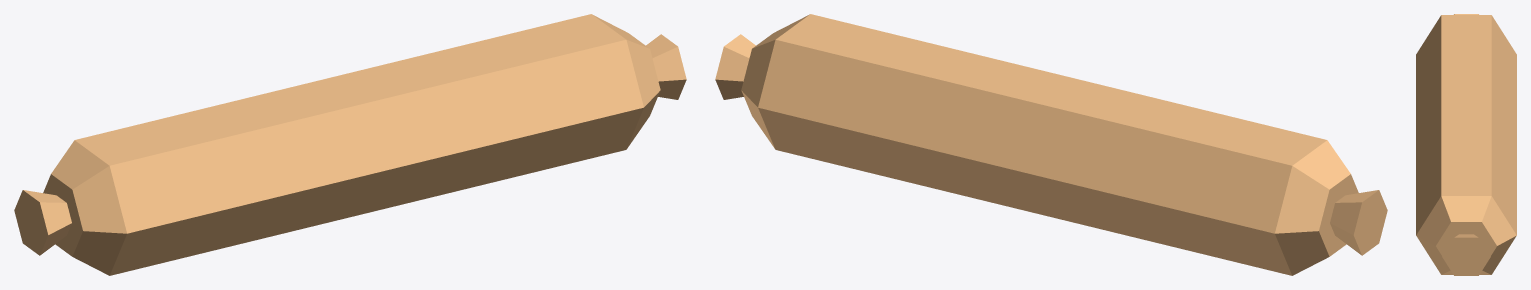
File: hotDogRaw.fbx
3 views of the same model, side by side, from view 1: azimuth 30°, elevation 25°; view 2: azimuth 150°, elevation 25°; view 3: azimuth 270°, elevation 25° (orthographic). The views are drawn at different scales.
Visible parts, largest first — view 1: hotDogRaw; view 2: hotDogRaw; view 3: hotDogRaw.
Boxes of the visible parts, <box> form: hotDogRaw: <box>14,14,686,275</box>; hotDogRaw: <box>715,14,1387,275</box>; hotDogRaw: <box>1416,14,1516,275</box>.
Bounding box in the file's own units: 5.86 × 0.9665 × 1.12.
